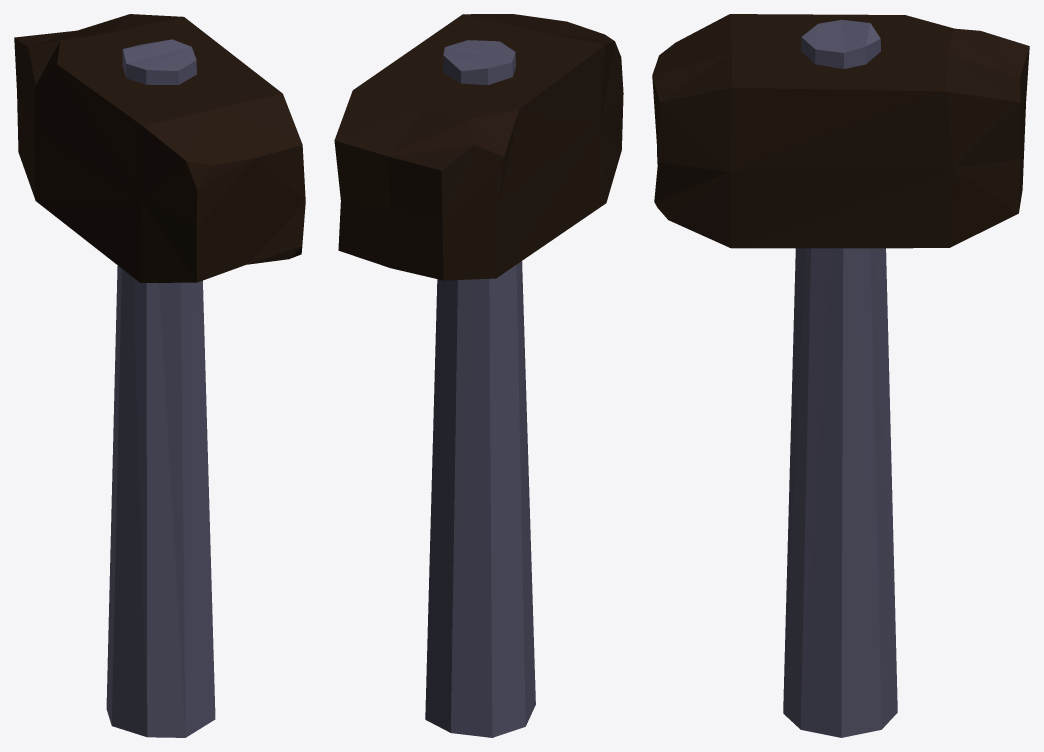
File: SFFA_Hammer_002.fbx
The picture shows the model from 3 angles, left to right: view 1: azimuth 30°, elevation 25°; view 2: azimuth 150°, elevation 25°; view 3: azimuth 270°, elevation 25°; orthographic projection. The views are drawn at different scales.
Visible parts, largest first — view 1: SFFA_Hammer_002; view 2: SFFA_Hammer_002; view 3: SFFA_Hammer_002.
Boxes of the visible parts, x1,y1,x2,y2 form: SFFA_Hammer_002: (14, 14, 305, 737); SFFA_Hammer_002: (334, 14, 623, 737); SFFA_Hammer_002: (652, 14, 1029, 737).
Bounding box in the file's own units: 5.67 × 23.98 × 11.96.
